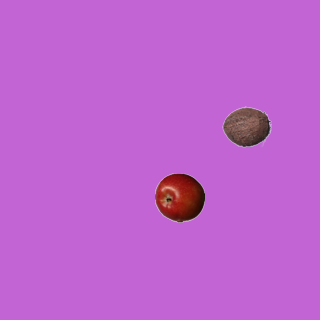Apple Braeburn: (154, 172, 204, 222)
Cocos: (221, 101, 271, 151)
